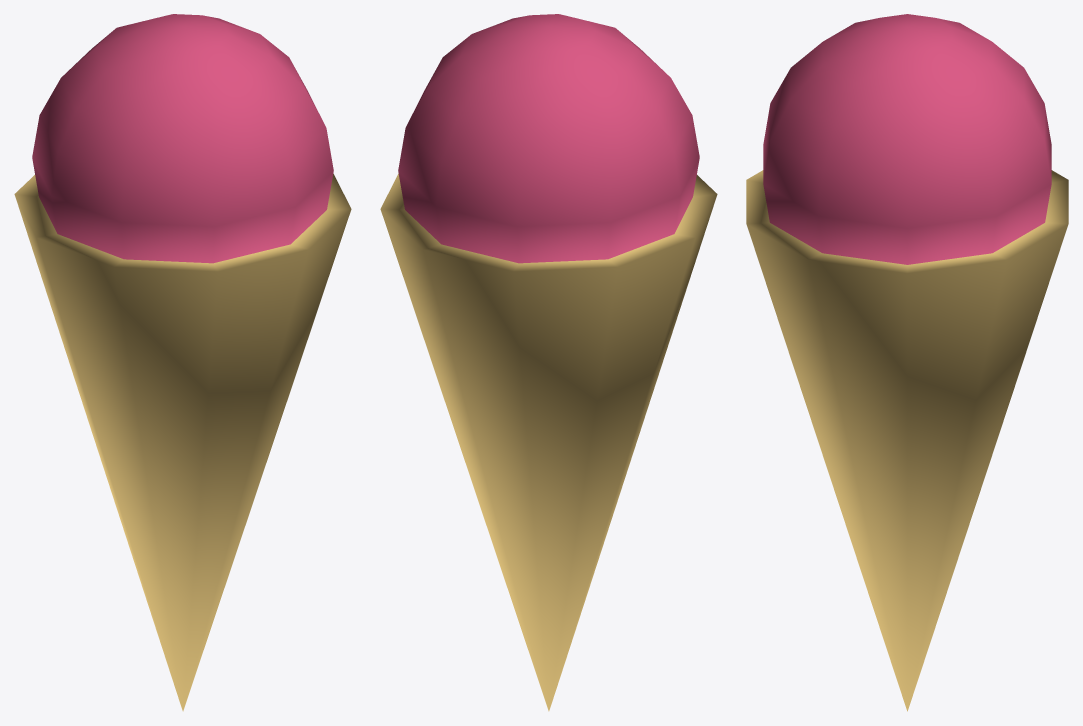
Rendered from Glass.fbx.
3 views of the same model, side by side, from view 1: azimuth 30°, elevation 25°; view 2: azimuth 150°, elevation 25°; view 3: azimuth 270°, elevation 25° (orthographic).
Parts seen in each view (by area): view 1: pSphere2; view 2: pSphere2; view 3: pSphere2.
Boxes of the visible parts, box(x1,y1,x2,y2) form: pSphere2: box(14, 14, 351, 711); pSphere2: box(380, 14, 717, 711); pSphere2: box(746, 14, 1068, 711).
Size of the model in its own units: 1.2 by 2.67 by 1.14.
1 material, 1 textured.
